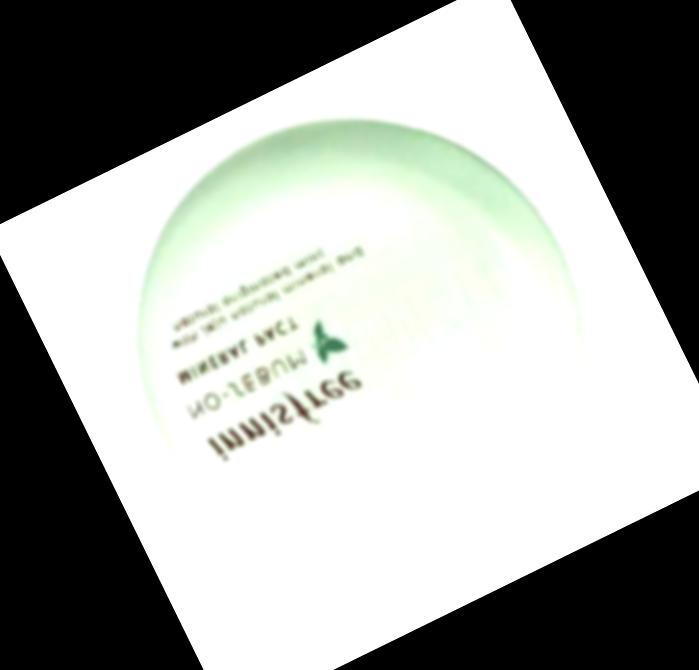cosmetic: (58, 35, 664, 648)
